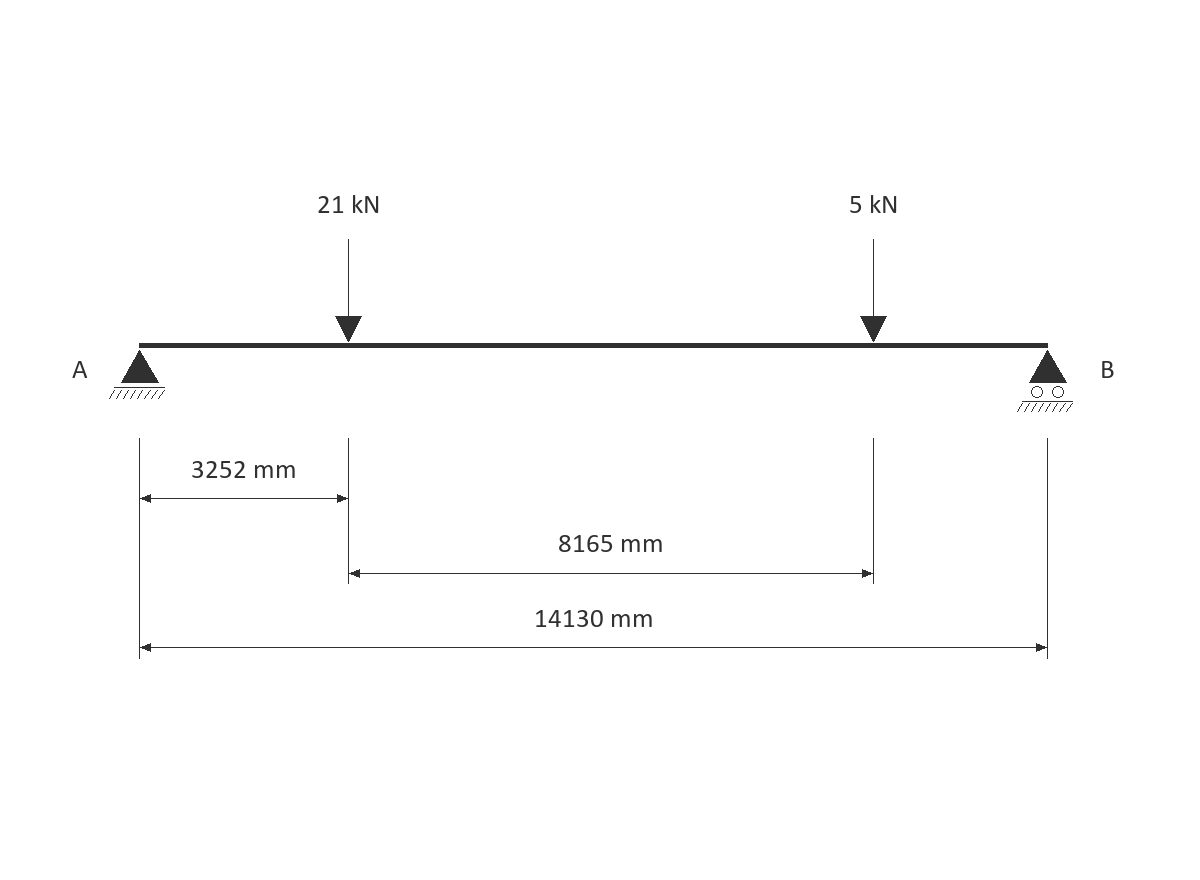pin_support: (109, 350, 165, 399)
point_load: (335, 239, 362, 342), (860, 239, 887, 342)
roller_support: (1017, 350, 1073, 412)
